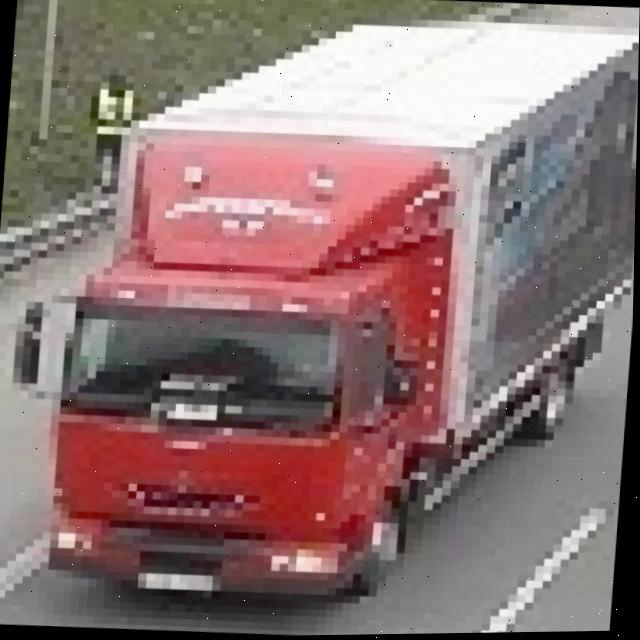truck: (6, 0, 640, 614)
